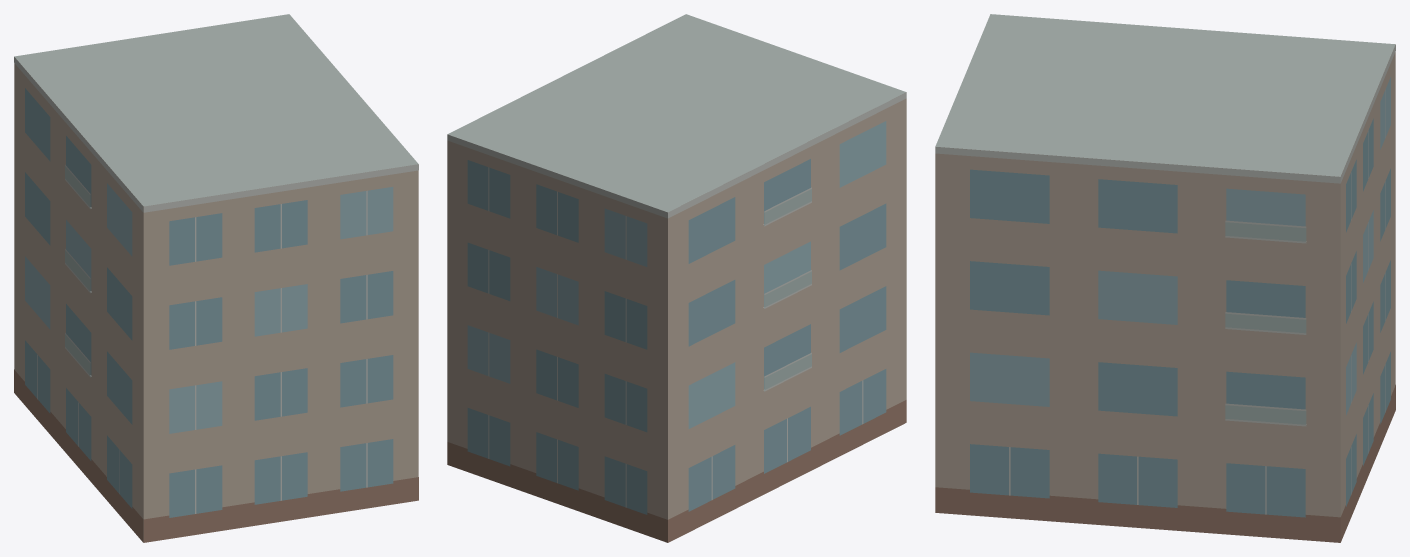
The model's file is survey-upis-32681359.glb.
The picture shows the model from 3 angles, left to right: view 1: azimuth 30°, elevation 25°; view 2: azimuth 150°, elevation 25°; view 3: azimuth 270°, elevation 25°; orthographic projection. The views are drawn at different scales.
Visible parts, largest first — view 1: survey-upis-32681359.tmp; view 2: survey-upis-32681359.tmp; view 3: survey-upis-32681359.tmp.
Part boxes in pixels (x1,y1,x2,y2): survey-upis-32681359.tmp: (14, 14, 418, 542); survey-upis-32681359.tmp: (447, 14, 906, 542); survey-upis-32681359.tmp: (935, 14, 1395, 542).
Bounding box in the file's own units: 12.62 × 13.21 × 15.07.
